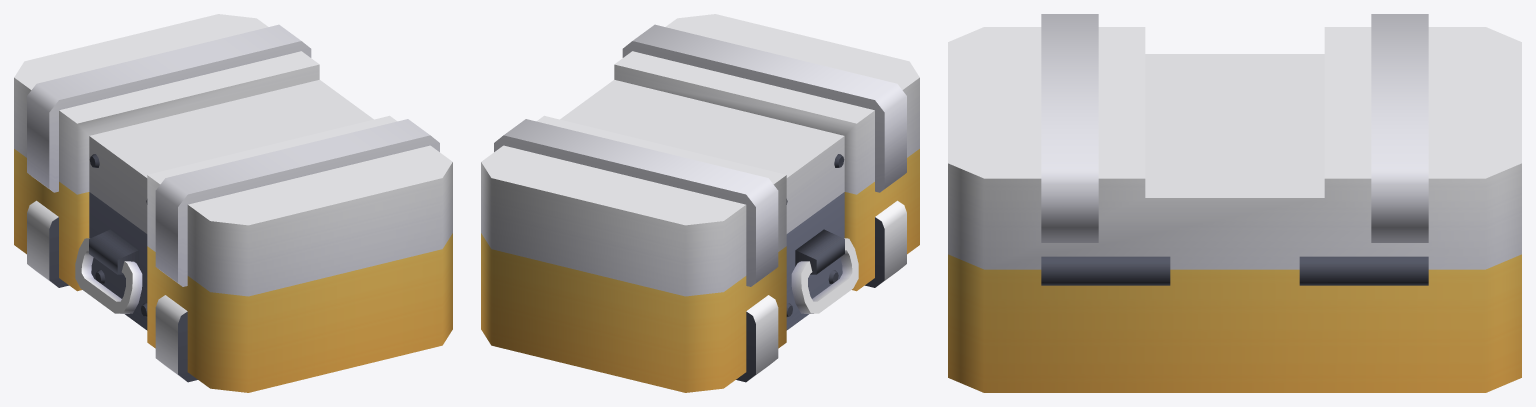
Rendered from crate-small.glb.
3 views of the same model, side by side, from view 1: azimuth 30°, elevation 25°; view 2: azimuth 150°, elevation 25°; view 3: azimuth 270°, elevation 25° (orthographic). The views are drawn at different scales.
Parts seen in each view (by area): view 1: lid, crate-small; view 2: lid, crate-small; view 3: lid, crate-small.
Part boxes in pixels (left/top/right/bottom): lid: left=14, top=14, right=452, bottom=296; crate-small: left=14, top=149, right=452, bottom=392; lid: left=481, top=14, right=919, bottom=296; crate-small: left=481, top=149, right=919, bottom=392; lid: left=948, top=14, right=1521, bottom=269; crate-small: left=948, top=254, right=1521, bottom=392.
Size of the model in its own units: 0.5495 by 0.37 by 0.8.
1 material, 1 textured.
